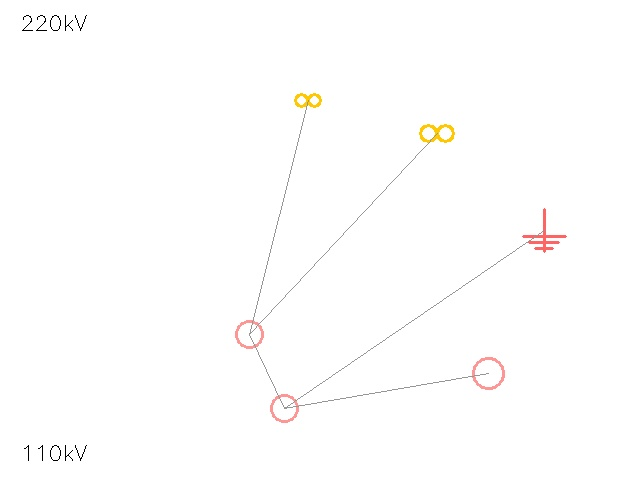current_transformer: (458, 343, 518, 403)
disconnect_switch: (222, 307, 276, 361)
ground: (523, 209, 565, 251)
surge_arrester: (258, 382, 310, 434)
transformer_2w: (416, 112, 458, 154), (291, 83, 325, 117)
